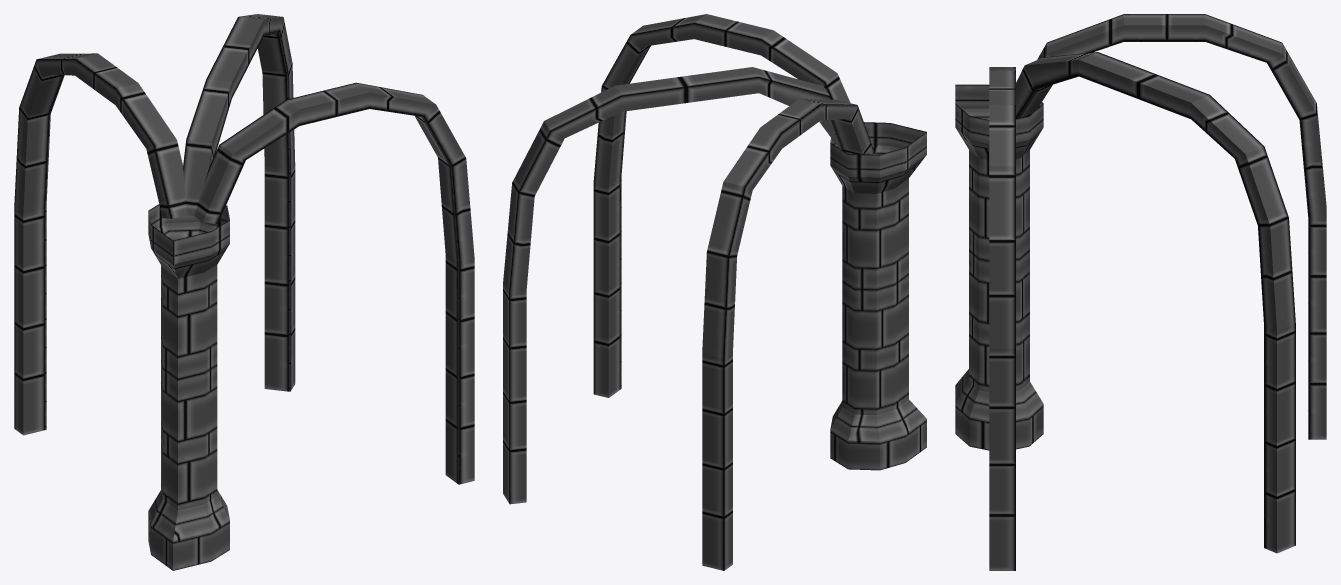
The model's file is Modular_Corner_Piece.fbx.
3 renders of one model, left to right at view 1: azimuth 30°, elevation 25°; view 2: azimuth 150°, elevation 25°; view 3: azimuth 270°, elevation 25°, orthographic. The views are drawn at different scales.
Parts seen in each view (by area): view 1: pCube77; view 2: pCube77; view 3: pCube77.
Boxes of the visible parts, x1,y1,x2,y2 form: pCube77: [14, 14, 474, 570]; pCube77: [503, 14, 926, 570]; pCube77: [955, 14, 1326, 570].
Size of the model in its own units: 454 by 565 by 458.
